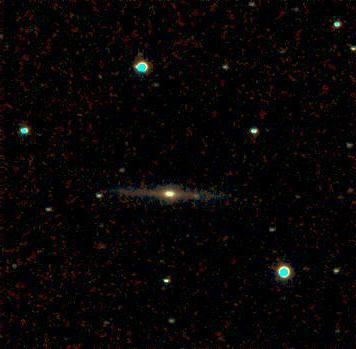star: (181, 183, 211, 213)
